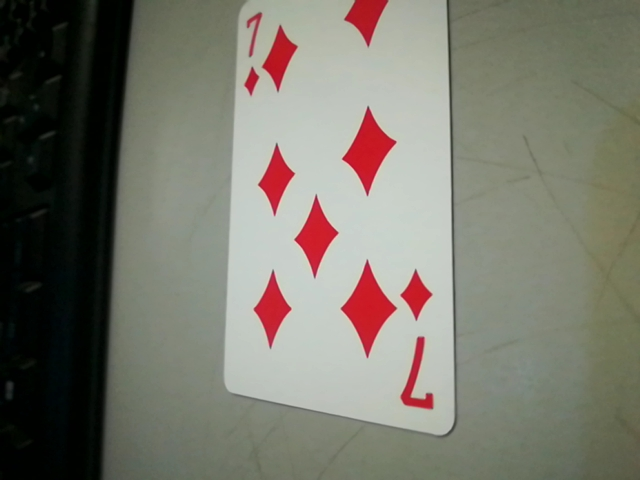fk 7: (394, 264, 447, 424)
